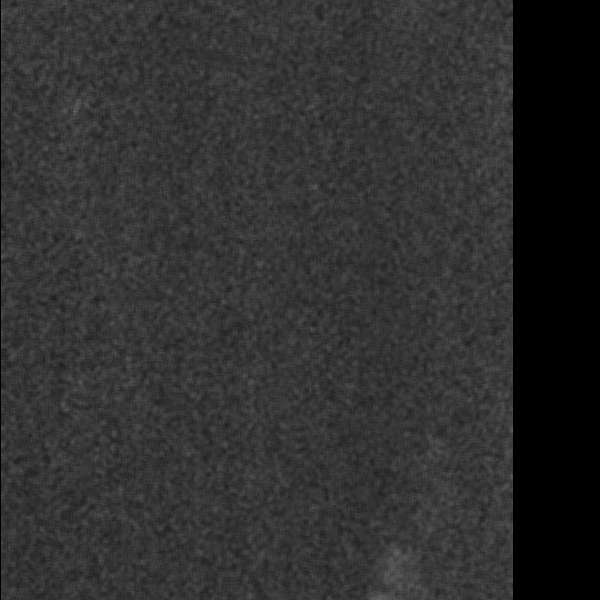spark: (381, 543, 407, 585)
